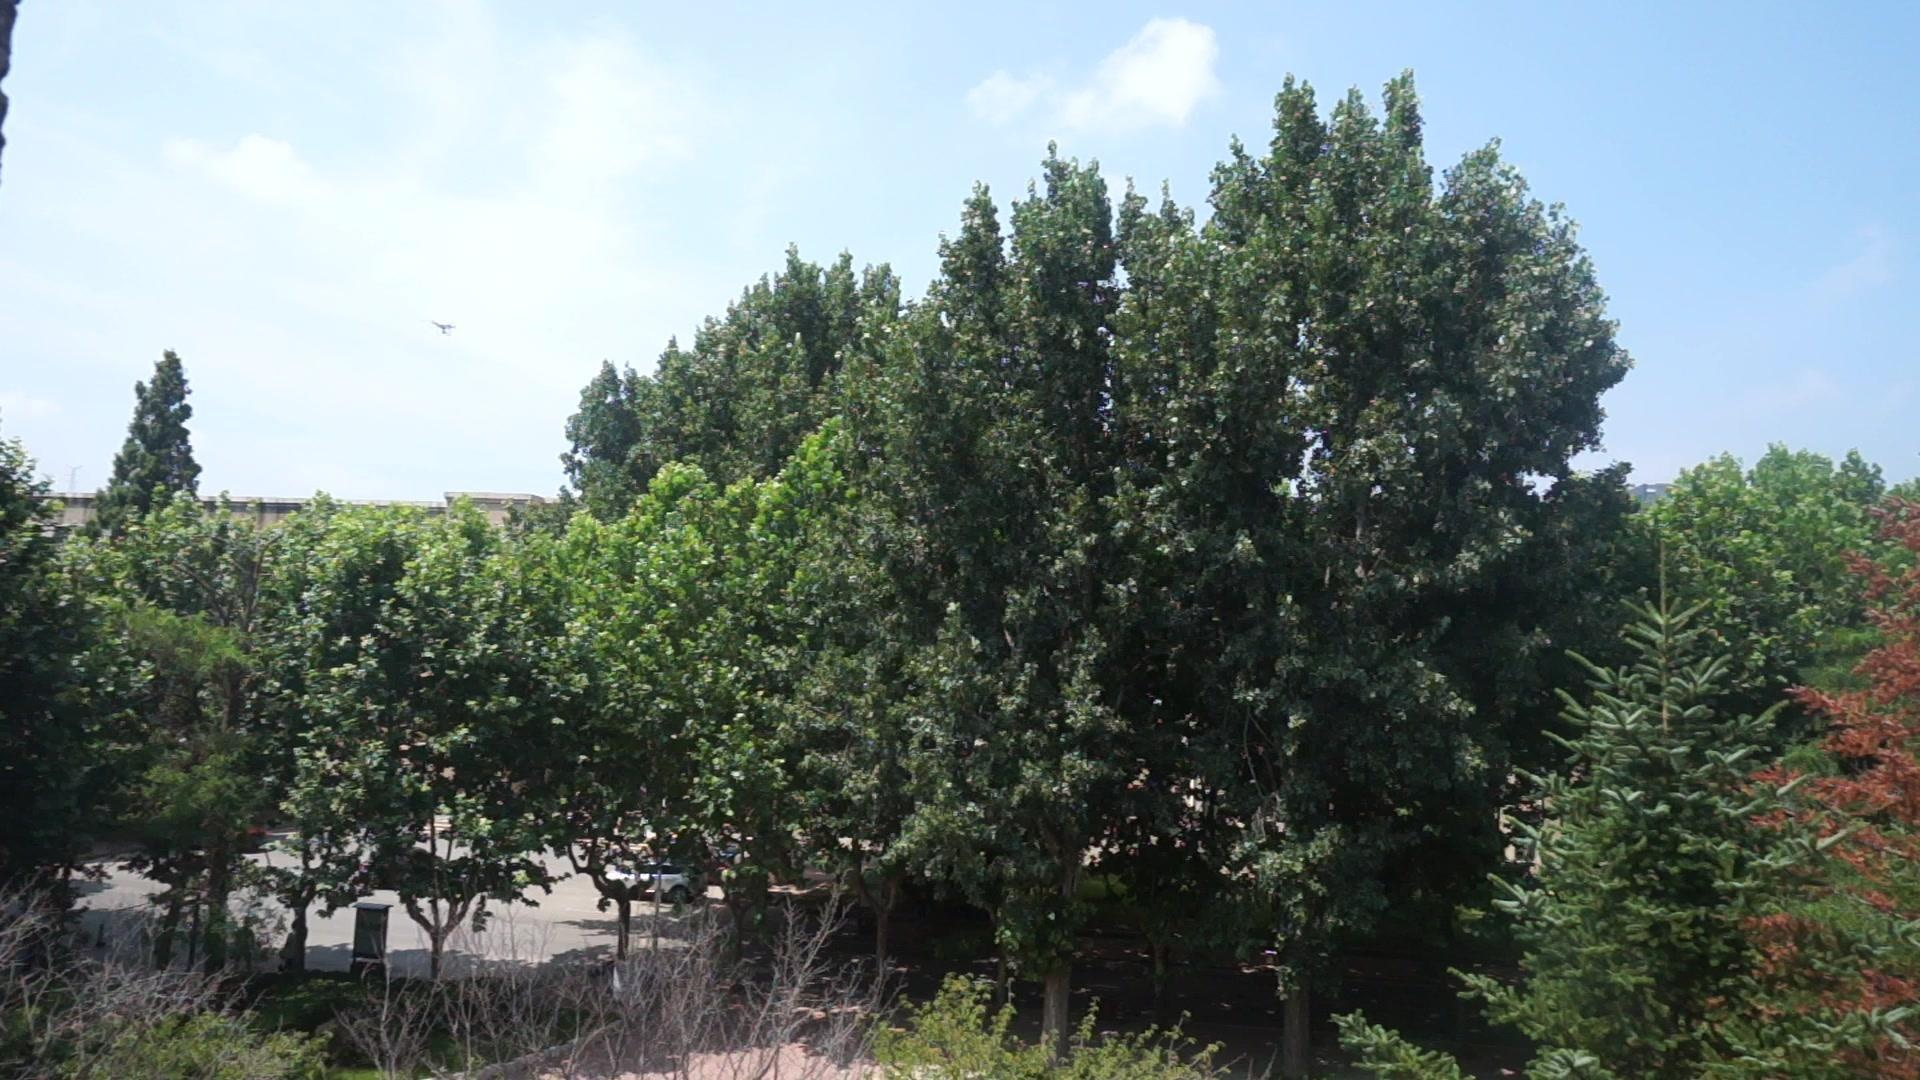UAV: (433, 322, 458, 335)
